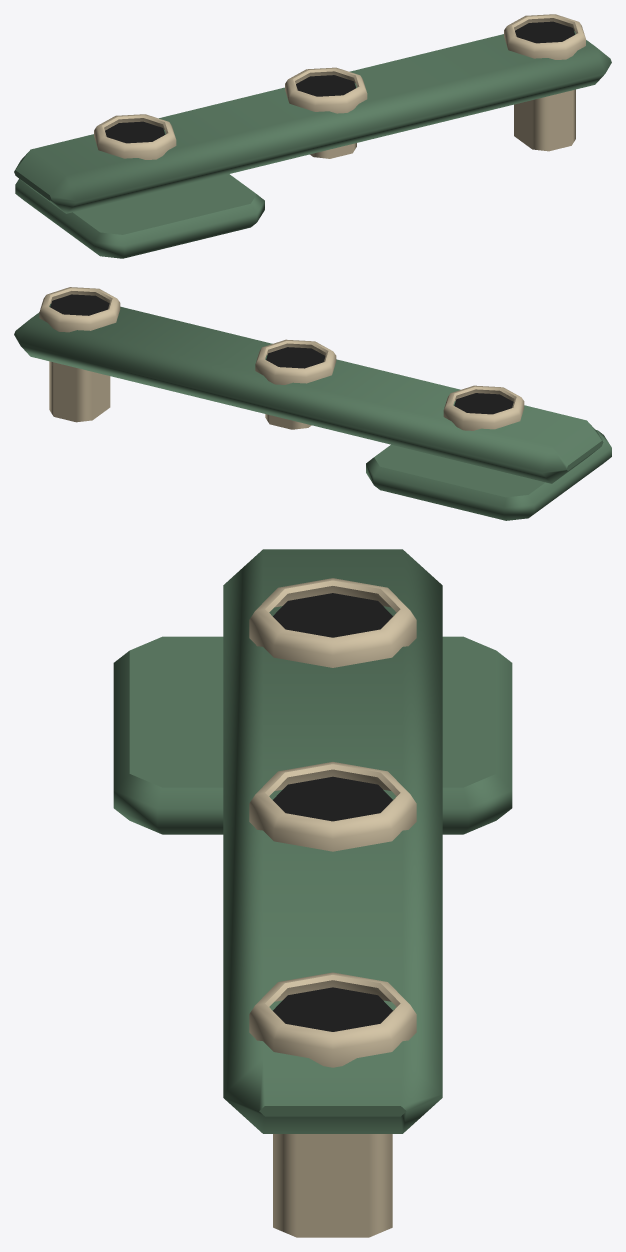
Rendered from t200_fan.obj.
The picture shows the model from 3 angles, top to bottom: view 1: azimuth 30°, elevation 25°; view 2: azimuth 150°, elevation 25°; view 3: azimuth 270°, elevation 25°; orthographic projection. The views are drawn at different scales.
Parts seen in each view (by area): view 1: t200_fan; view 2: t200_fan; view 3: t200_fan.
Boxes of the visible parts, <box> form: t200_fan: <box>14,14,611,258</box>; t200_fan: <box>14,287,611,520</box>; t200_fan: <box>113,549,512,1237</box>.
Bounding box in the file's own units: 6.4 × 1.18 × 2.
